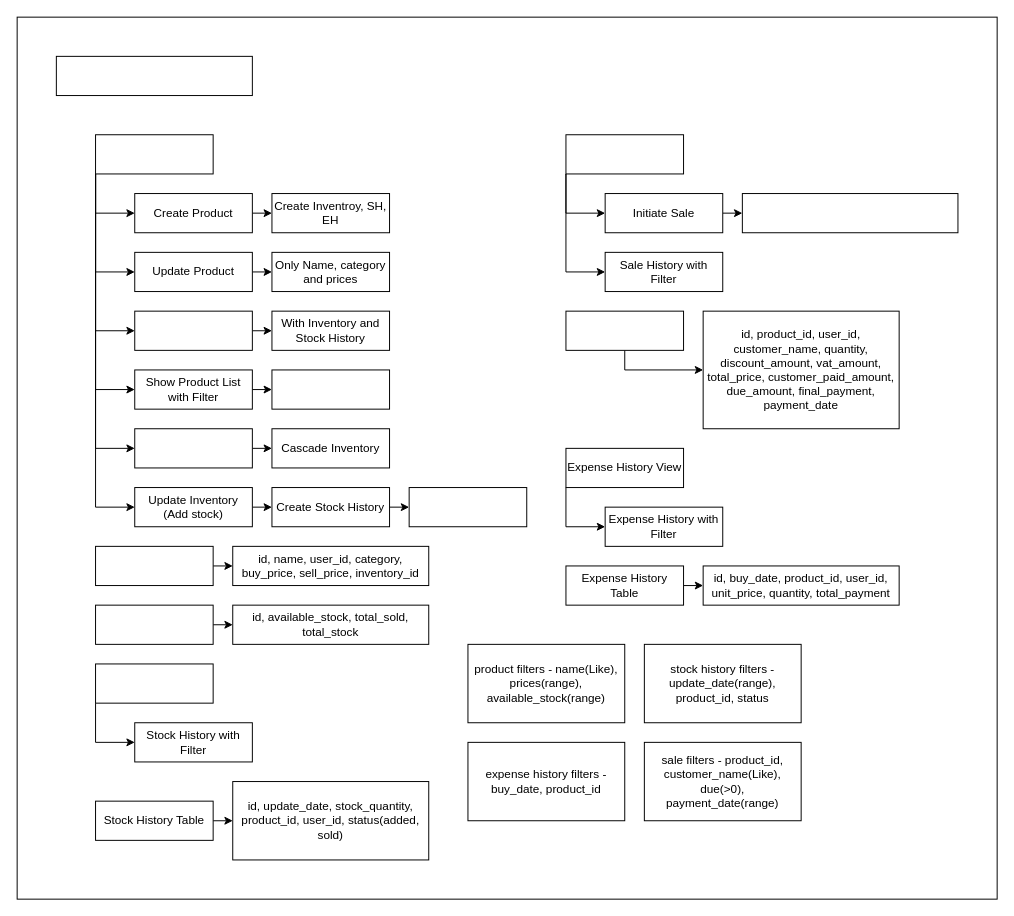
Some shapes in this 1014 by 916 pixel diagram are drawn without their labels. Here are the shapes that lost their labels. From the top down, the centre of each, then its label:
At point (153, 75): "Inventory Management System".
At point (154, 154): "Product View".
At point (624, 154): "Sale View".
At point (849, 213): "Update Inventory (Reduce), Stock History based on Product".
At point (193, 330): "Show Product".
At point (624, 330): "Sale Table".
At point (330, 389): "With Available Stock from Inventory".
At point (193, 448): "Delete Product".
At point (467, 507): "Create Expense History".
At point (154, 565): "Product Table".
At point (154, 624): "Inventory Table".
At point (154, 683): "Stock History View".
